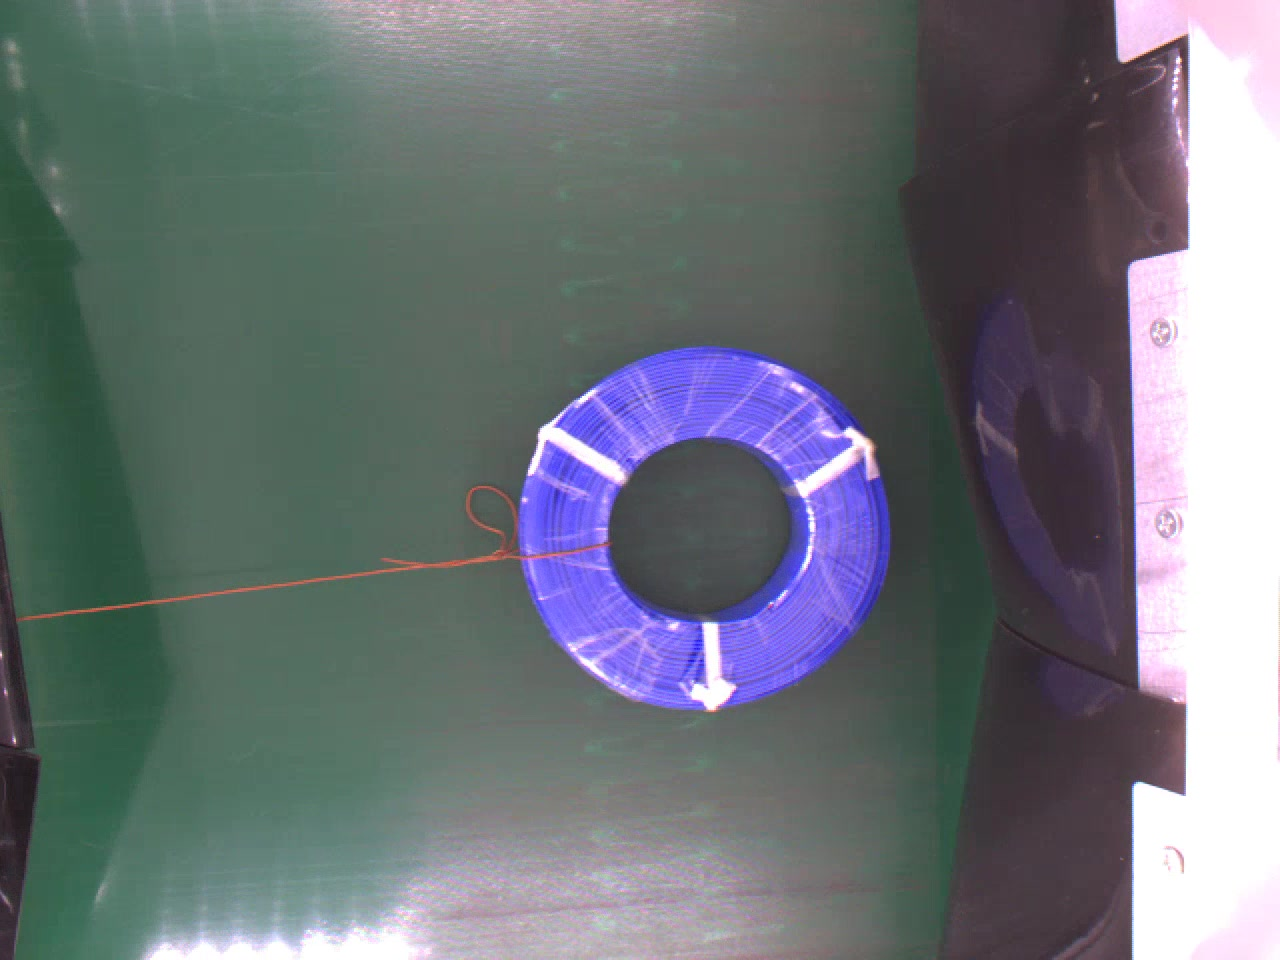blue: (515, 344, 890, 715)
